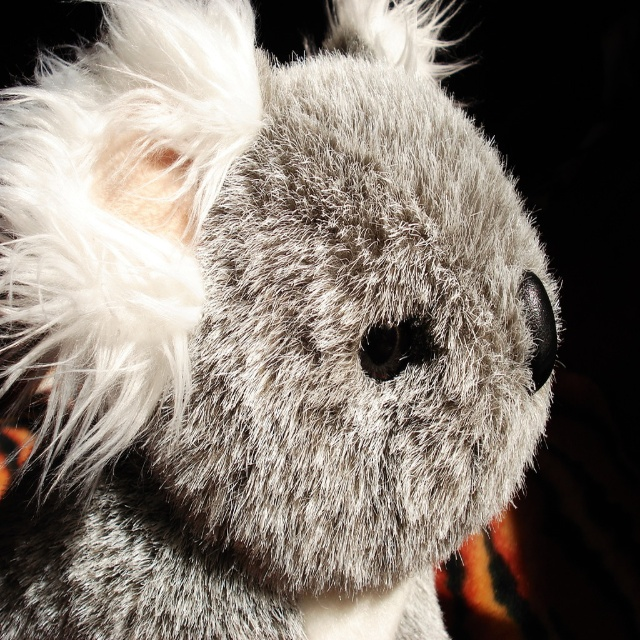Koala: (0, 0, 565, 639)
